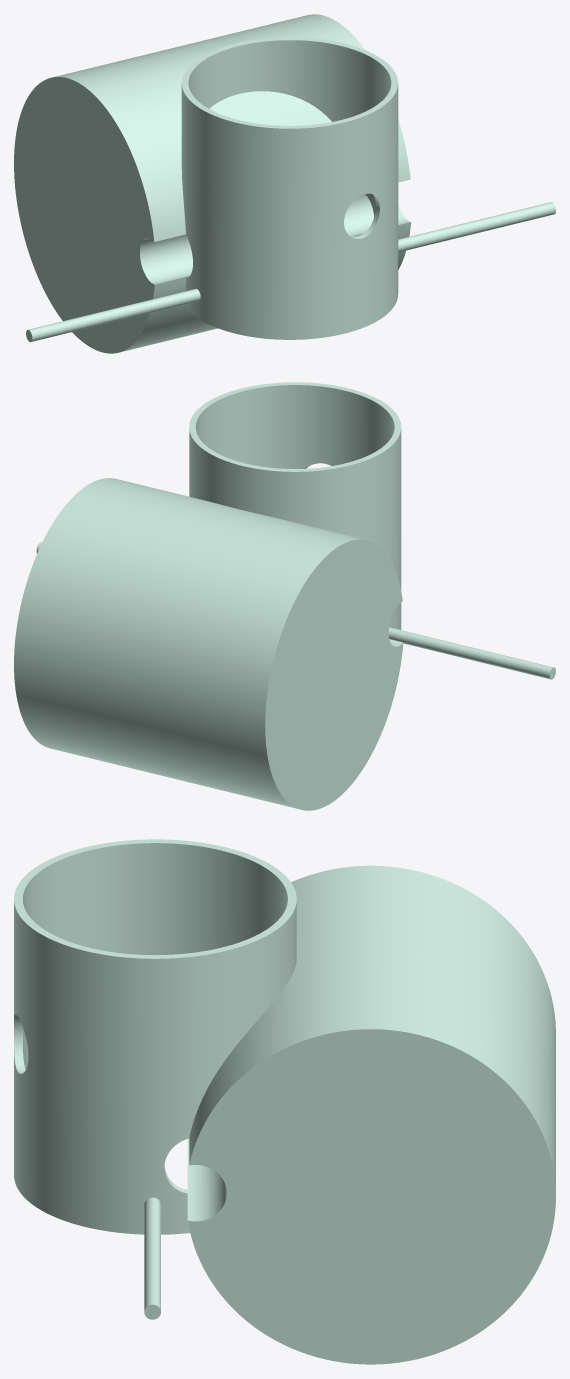
3 renders of one model, top to bottom at view 1: azimuth 30°, elevation 25°; view 2: azimuth 150°, elevation 25°; view 3: azimuth 270°, elevation 25°, orthographic. The views are drawn at different scales.
Visible parts, largest first — view 1: Renderer Node; view 2: Renderer Node; view 3: Renderer Node.
Part boxes in pixels (left/top/right/bottom): Renderer Node: left=14, top=14, right=555, bottom=353; Renderer Node: left=14, top=382, right=555, bottom=810; Renderer Node: left=14, top=839, right=555, bottom=1364.
Size of the model in its own units: 1.5 by 0.7966 by 1.03.
